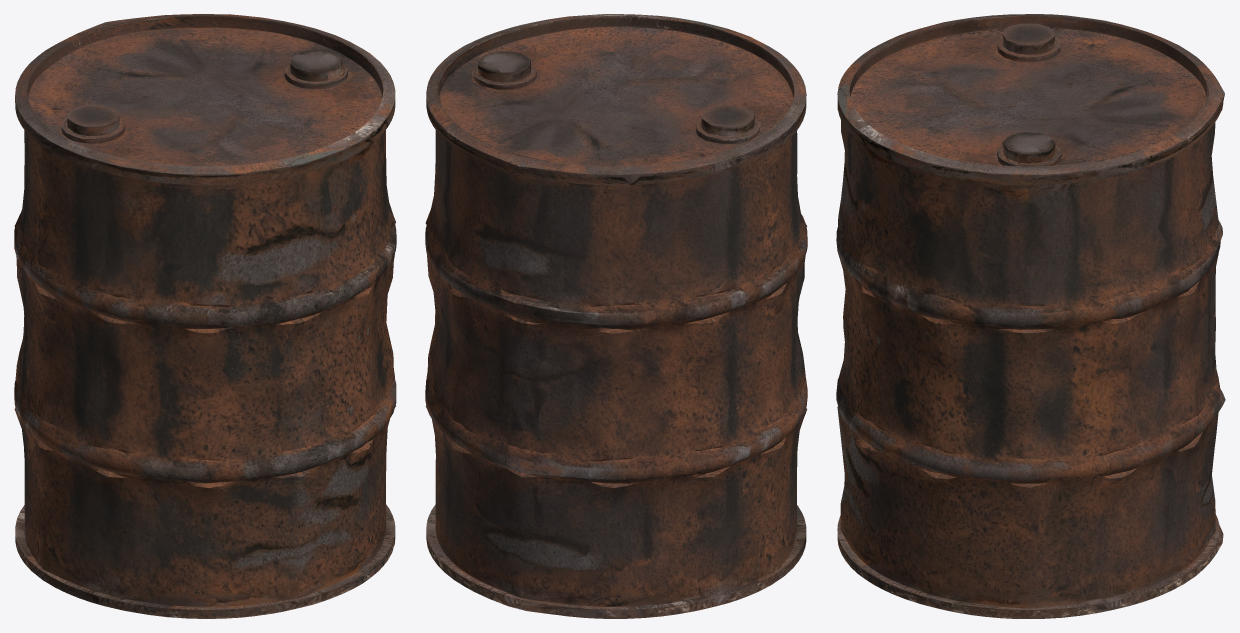
File: oil_barrel.glb
3 renders of one model, left to right at view 1: azimuth 30°, elevation 25°; view 2: azimuth 150°, elevation 25°; view 3: azimuth 270°, elevation 25°, orthographic.
Parts seen in each view (by area): view 1: mesh_node; view 2: mesh_node; view 3: mesh_node.
Part boxes in pixels (x1,y1,x2,y2): mesh_node: (14,14,396,618); mesh_node: (425,14,807,618); mesh_node: (836,14,1225,618).
Bounding box in the file's own units: 1.45 × 1.9 × 1.47.
Materials: 1 (1 with a texture image).
